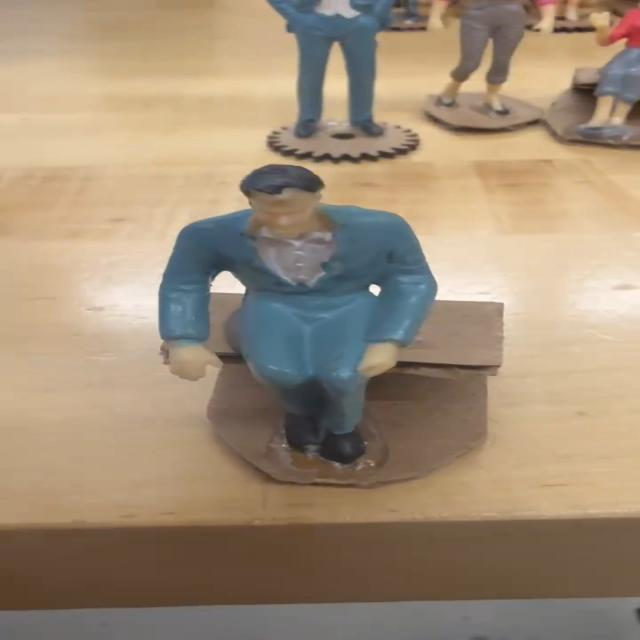Authorized: (162, 164, 445, 482)
